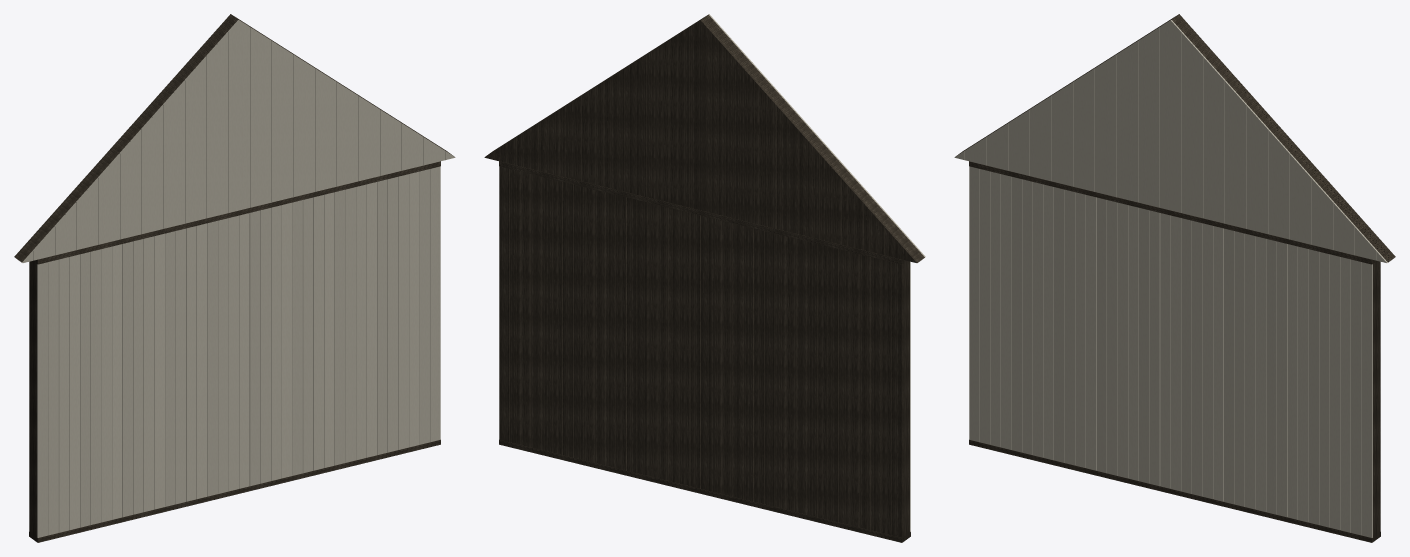
The picture shows the model from 3 angles, left to right: view 1: azimuth 30°, elevation 25°; view 2: azimuth 150°, elevation 25°; view 3: azimuth 330°, elevation 25°; orthographic projection.
Visible parts, largest first — view 1: Mesh_warm, Mesh_dark; view 2: Mesh_dark, Mesh_warm; view 3: Mesh_warm, Mesh_dark.
Part boxes in pixels (box(x1,y1,x2,y2)): Mesh_warm: box(22, 20, 455, 537); Mesh_dark: box(14, 14, 452, 542); Mesh_dark: box(484, 14, 924, 542); Mesh_warm: box(708, 14, 925, 531); Mesh_warm: box(954, 20, 1387, 537); Mesh_dark: box(957, 14, 1395, 542).
Bounding box in the file's own units: 7.2 × 7.52 × 0.254.
Materials: 2 (2 with a texture image).
